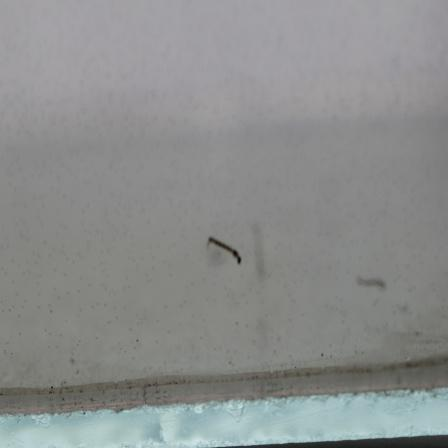Jentik-Nyamuk: (203, 228, 246, 267)
